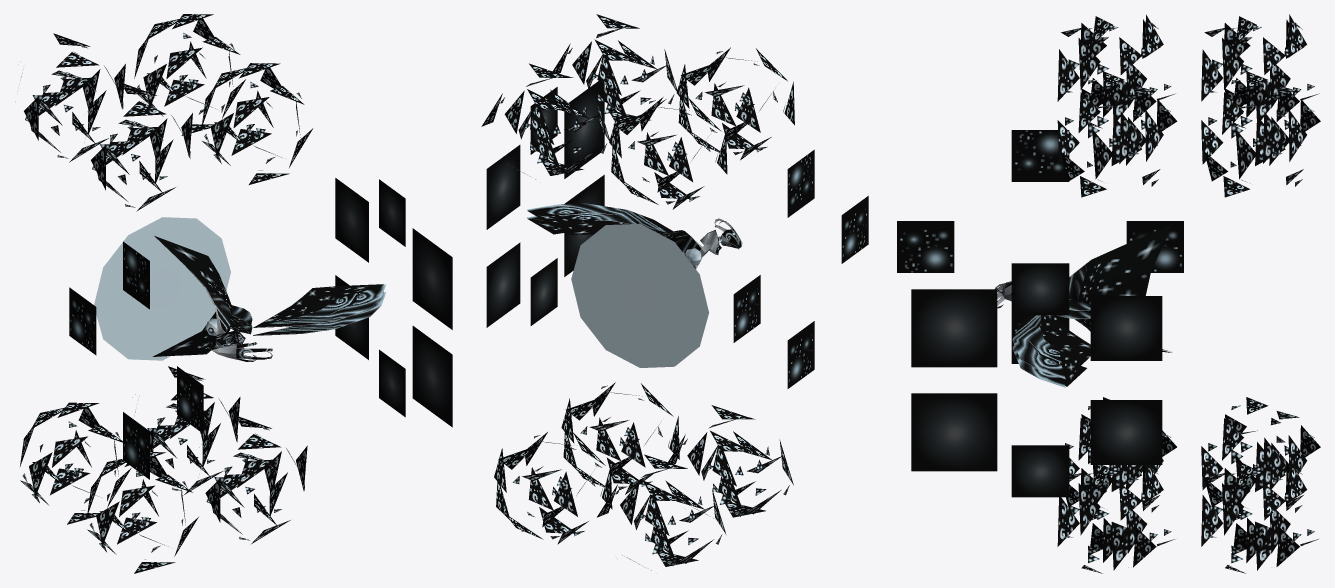
3 renders of one model, left to right at view 1: azimuth 30°, elevation 25°; view 2: azimuth 150°, elevation 25°; view 3: azimuth 270°, elevation 25°, orthographic. The views are drawn at different scales.
Parts seen in each view (by area): view 1: M_0015_0, M_0015_1; view 2: M_0015_0, M_0015_1; view 3: M_0015_0.
Boxes of the visible parts, x1,y1,x2,y2 form: M_0015_0: (20,14,452,573); M_0015_1: (189,269,385,360); M_0015_0: (481,14,868,570); M_0015_1: (527,210,742,268); M_0015_0: (897,14,1320,573).
Bounding box in the file's own units: 4.29 × 6.93 × 5.32.
2 materials, 2 textured.
